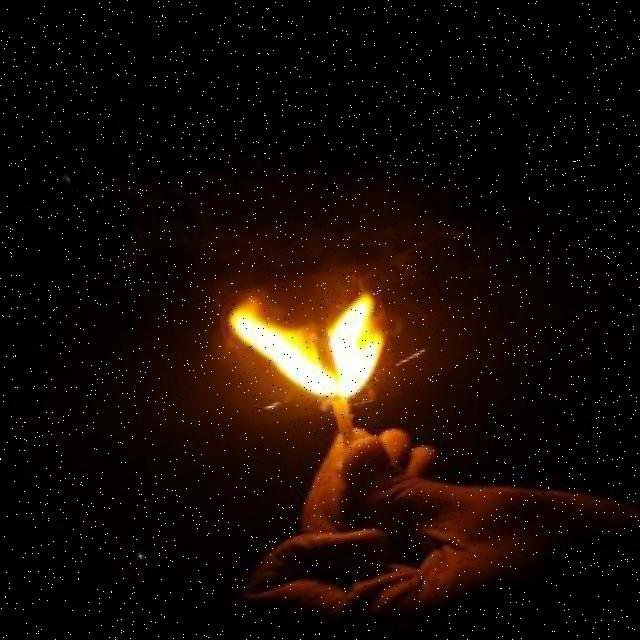fire: (215, 262, 402, 428)
